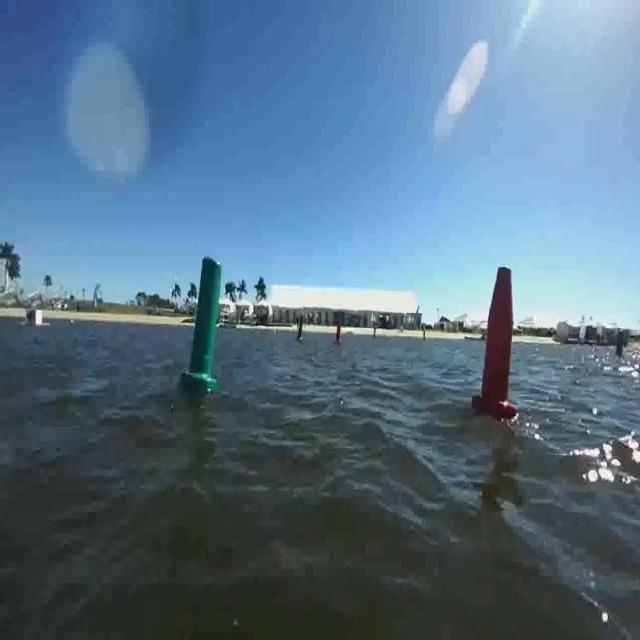green-column-buoy: (183, 257, 226, 394)
red-column-buoy: (473, 262, 518, 423)
